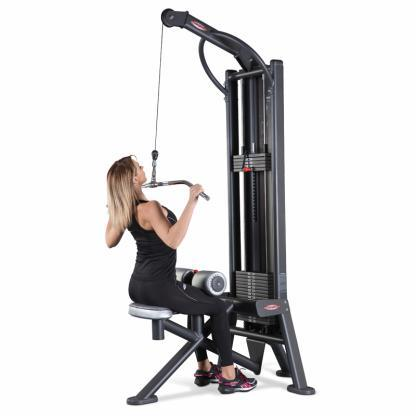Lat Pull Down: (82, 4, 332, 407)
